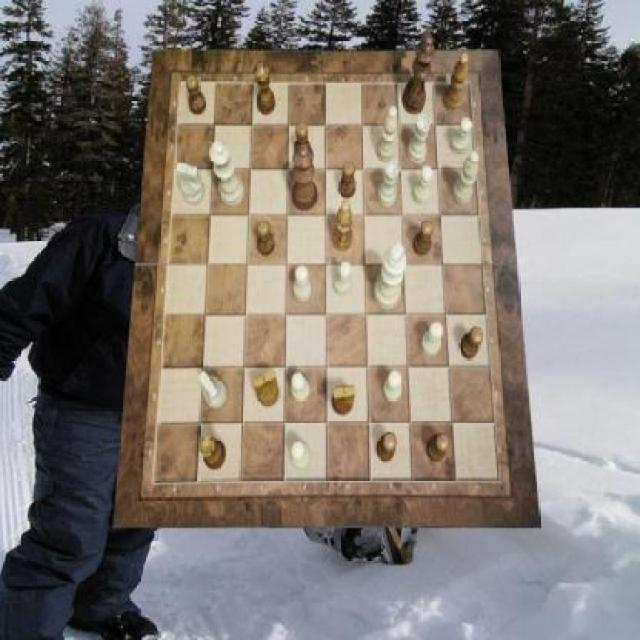bishop: (445, 52, 469, 112), (334, 200, 354, 252)
black-bishop: (402, 29, 434, 115)
black-king: (254, 368, 280, 406), (332, 384, 356, 416)
black-knight: (186, 77, 206, 117), (460, 326, 483, 360), (414, 220, 434, 256), (294, 123, 311, 162), (257, 220, 275, 256), (339, 162, 356, 199), (376, 431, 396, 462), (428, 434, 450, 461)
black-pawn: (292, 145, 318, 212)
black-queen: (257, 65, 277, 117), (198, 434, 226, 470)
black-rook: (452, 150, 480, 204), (375, 106, 398, 162)
white-bishop: (374, 243, 407, 311)
white-king: (177, 161, 206, 204), (198, 371, 228, 408)
white-knight: (451, 117, 474, 155), (421, 322, 444, 356), (414, 166, 434, 205), (294, 266, 311, 302), (383, 371, 402, 403), (334, 262, 351, 296), (291, 374, 310, 403), (291, 442, 310, 469)
white-pawn: (211, 140, 246, 206)
white-queen: (378, 160, 401, 208), (408, 116, 430, 164)
